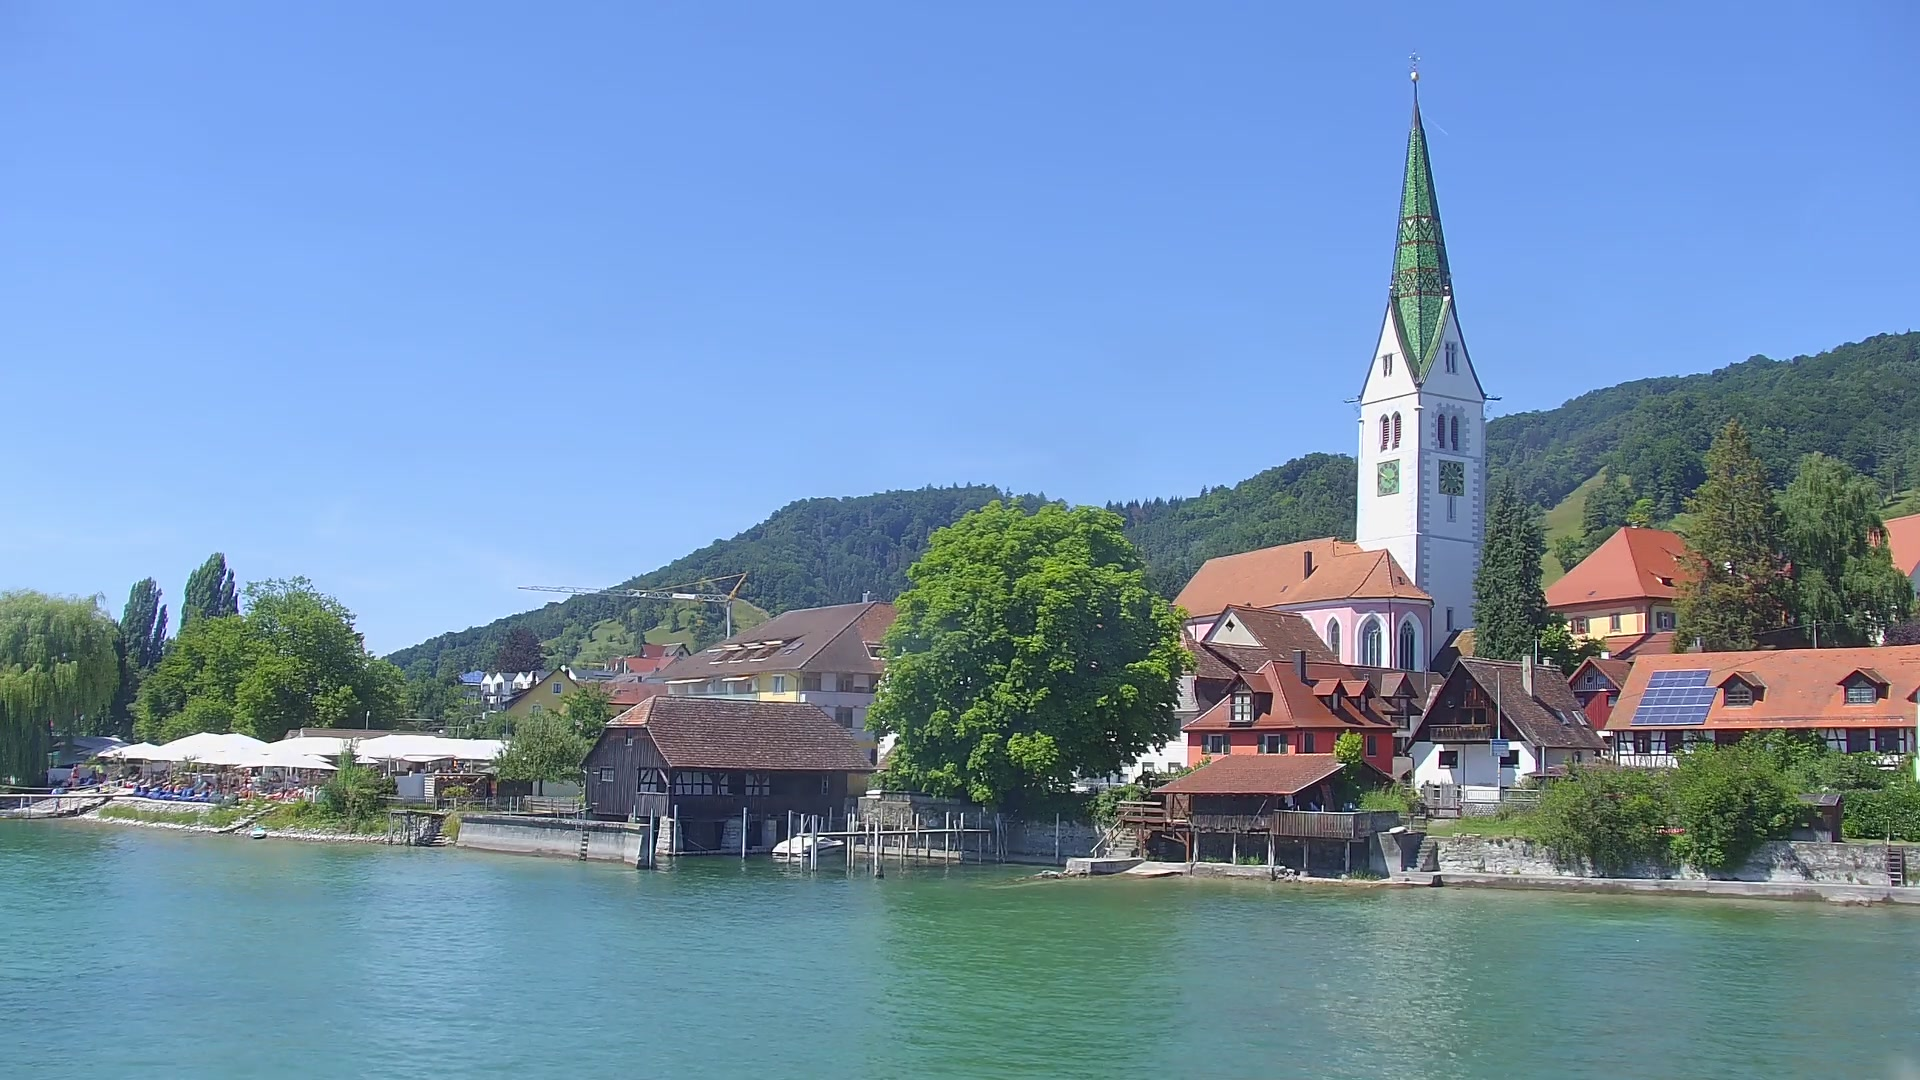human: (70, 762, 80, 789)
sea: (772, 834, 843, 863)
